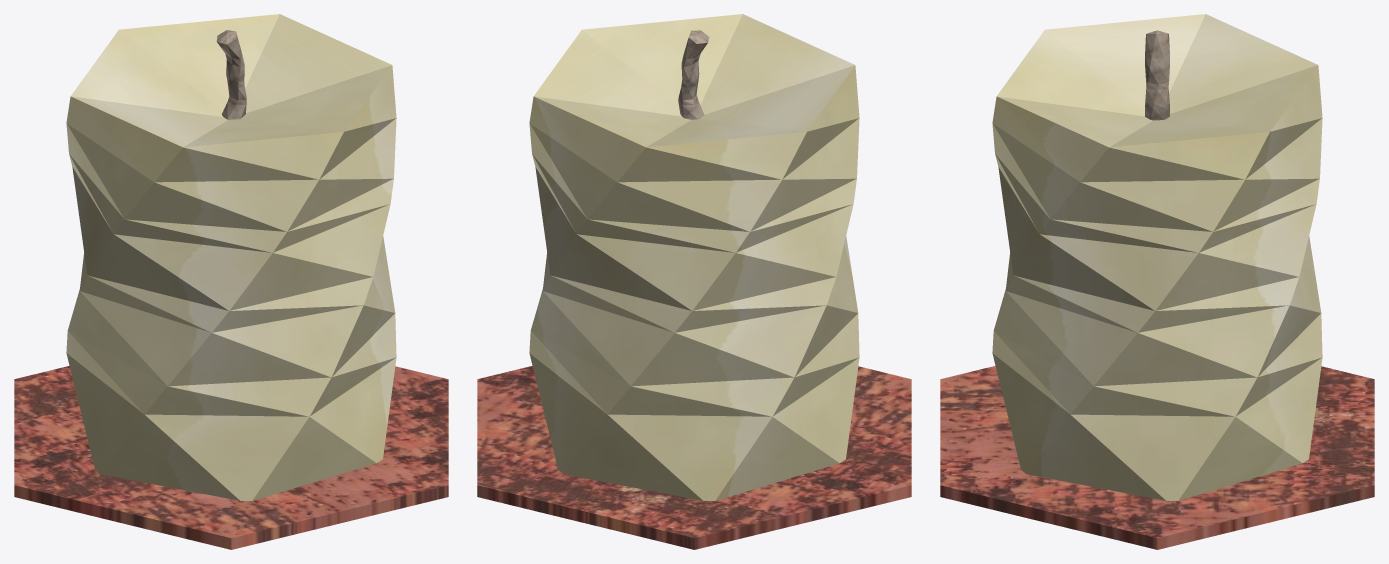
The model's file is wicket.fbx.
3 views of the same model, side by side, from view 1: azimuth 30°, elevation 25°; view 2: azimuth 150°, elevation 25°; view 3: azimuth 270°, elevation 25° (orthographic).
Visible parts, largest first — view 1: candle; view 2: candle; view 3: candle.
Boxes of the visible parts, x1,y1,x2,y2 form: candle: [14, 14, 448, 549]; candle: [477, 14, 911, 549]; candle: [940, 14, 1374, 549].
Bounding box in the file's own units: 85.03 × 77.04 × 73.64.
Materials: 1 (1 with a texture image).
